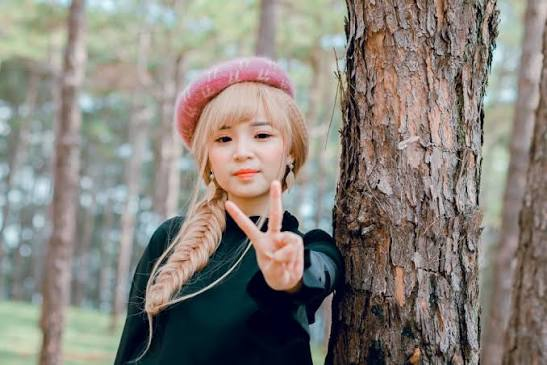peace_sign: (222, 178, 312, 292)
